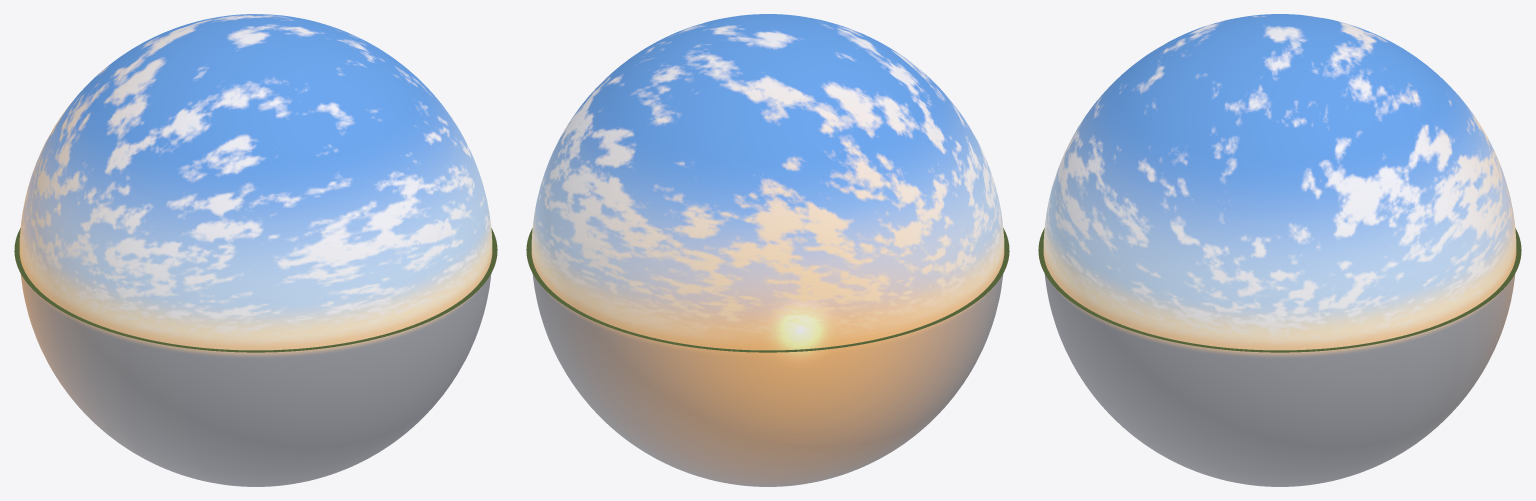
Rendered from transformer1.glb.
3 views of the same model, side by side, from view 1: azimuth 30°, elevation 25°; view 2: azimuth 150°, elevation 25°; view 3: azimuth 270°, elevation 25° (orthographic).
Parts seen in each view (by area): view 1: Env_Sky_Dome, Env_Grass; view 2: Env_Sky_Dome, Env_Grass; view 3: Env_Sky_Dome, Env_Grass.
Part boxes in pixels (x1,y1,x2,y2): Env_Sky_Dome: (19,14,492,486); Env_Grass: (14,228,497,352); Env_Sky_Dome: (531,14,1004,486); Env_Grass: (526,228,1009,352); Env_Sky_Dome: (1043,14,1516,486); Env_Grass: (1038,228,1521,352).
Bounding box in the file's own units: 960 × 940 × 960.
60 materials, 3 textured.
